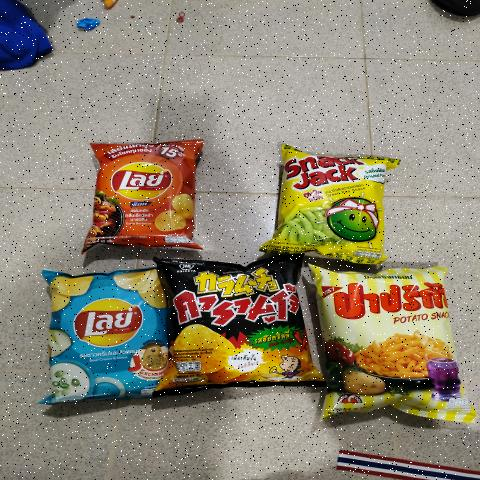karamujo: (170, 262, 308, 385)
lay_blue: (50, 282, 158, 388)
paprika: (328, 274, 453, 416)
snack_jack: (282, 154, 384, 257)
